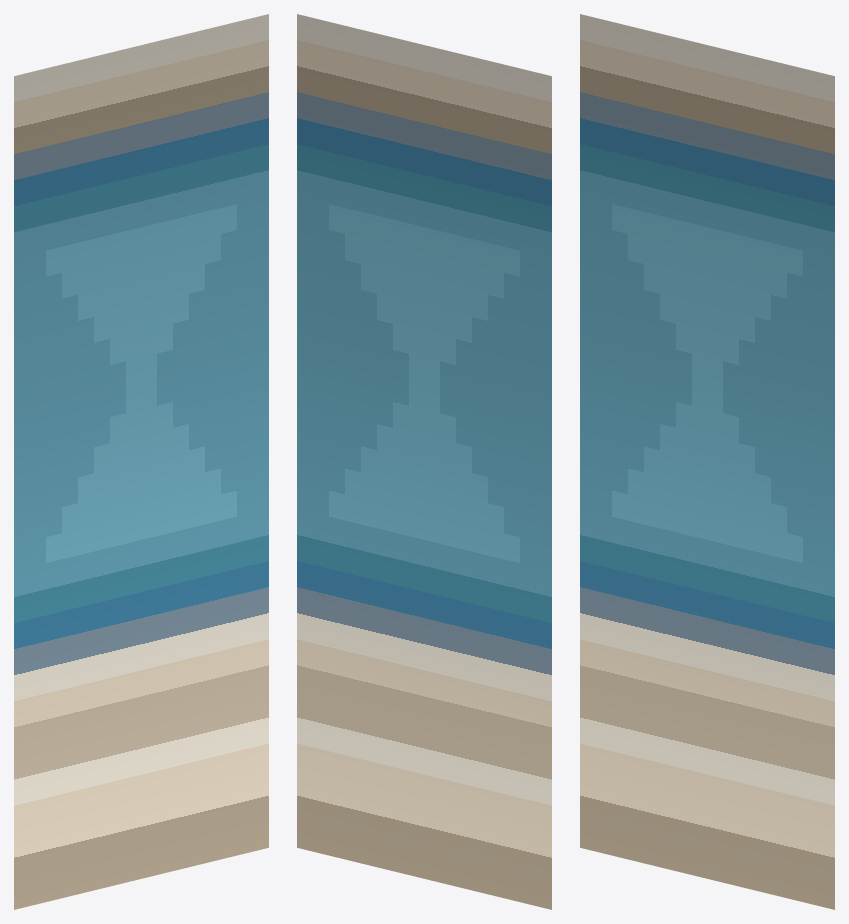
3 renders of one model, left to right at view 1: azimuth 30°, elevation 25°; view 2: azimuth 150°, elevation 25°; view 3: azimuth 330°, elevation 25°, orthographic.
Bounding box in the file's own units: 1 × 3.12 × 0.
1 material, 1 textured.
